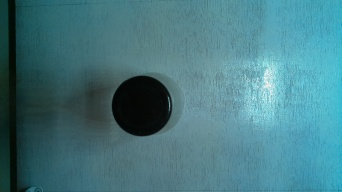f: (107, 70, 191, 142)
